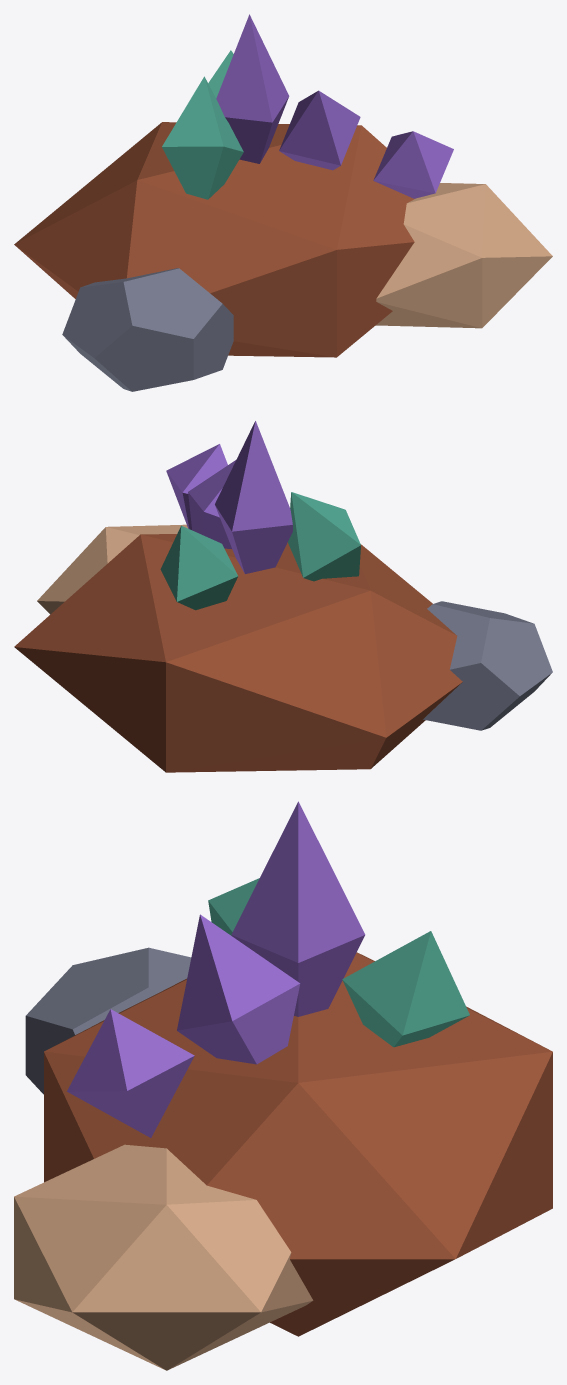
File: jazida.glb
3 renders of one model, top to bottom at view 1: azimuth 30°, elevation 25°; view 2: azimuth 150°, elevation 25°; view 3: azimuth 270°, elevation 25°, orthographic. The views are drawn at different scales.
Visible parts, largest first — view 1: modelo; view 2: modelo; view 3: modelo.
Boxes of the visible parts, x1,y1,x2,y2 form: modelo: [14, 14, 552, 391]; modelo: [14, 421, 552, 772]; modelo: [14, 801, 552, 1370].
Bounding box in the file's own units: 1.93 × 1.28 × 1.38.
